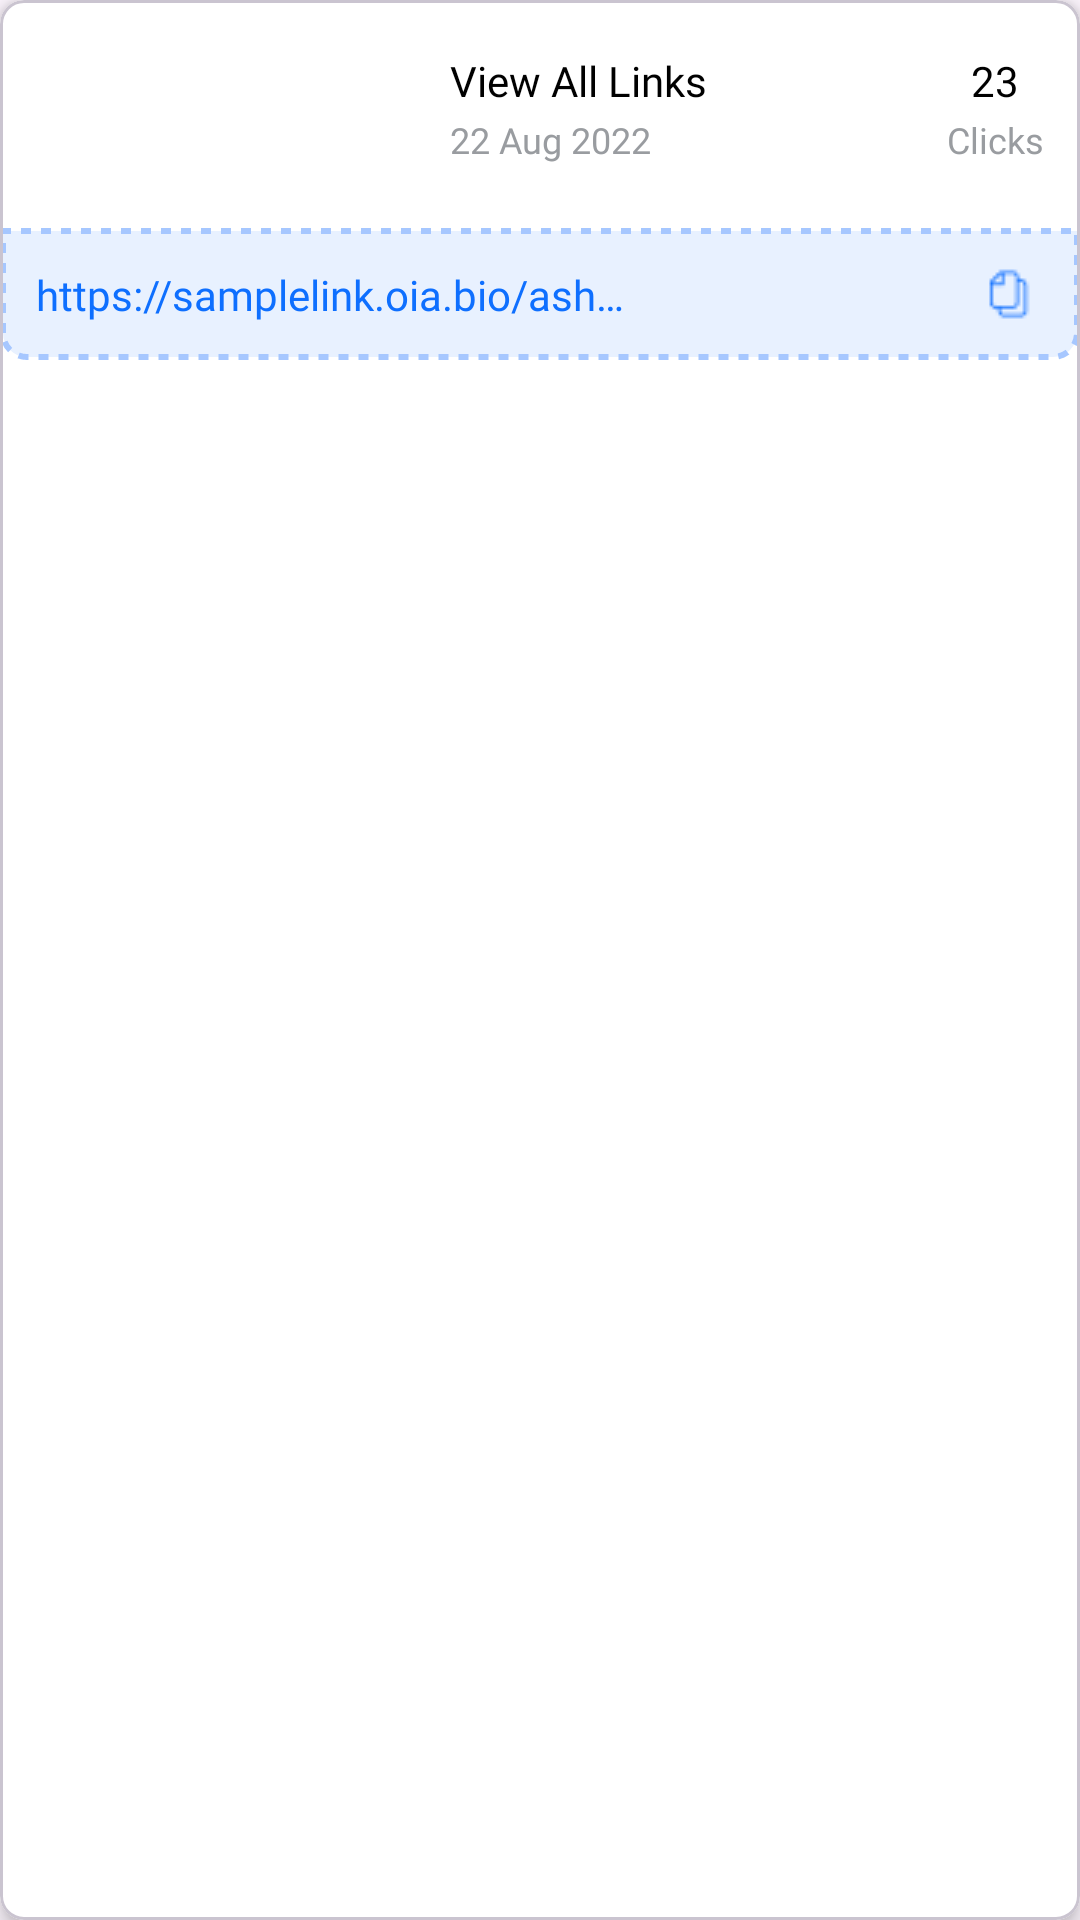

Icons on this 1080 x 1920 Android screen, each with the point to tap as [x,y]:
files: [1009,294]
